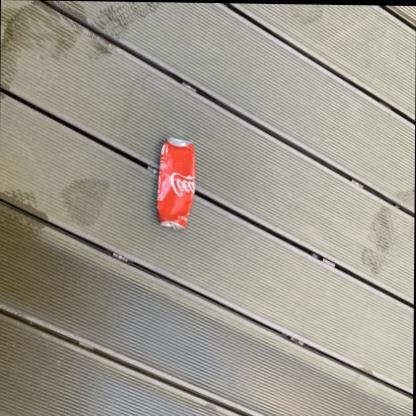trash: (157, 137, 194, 228)
